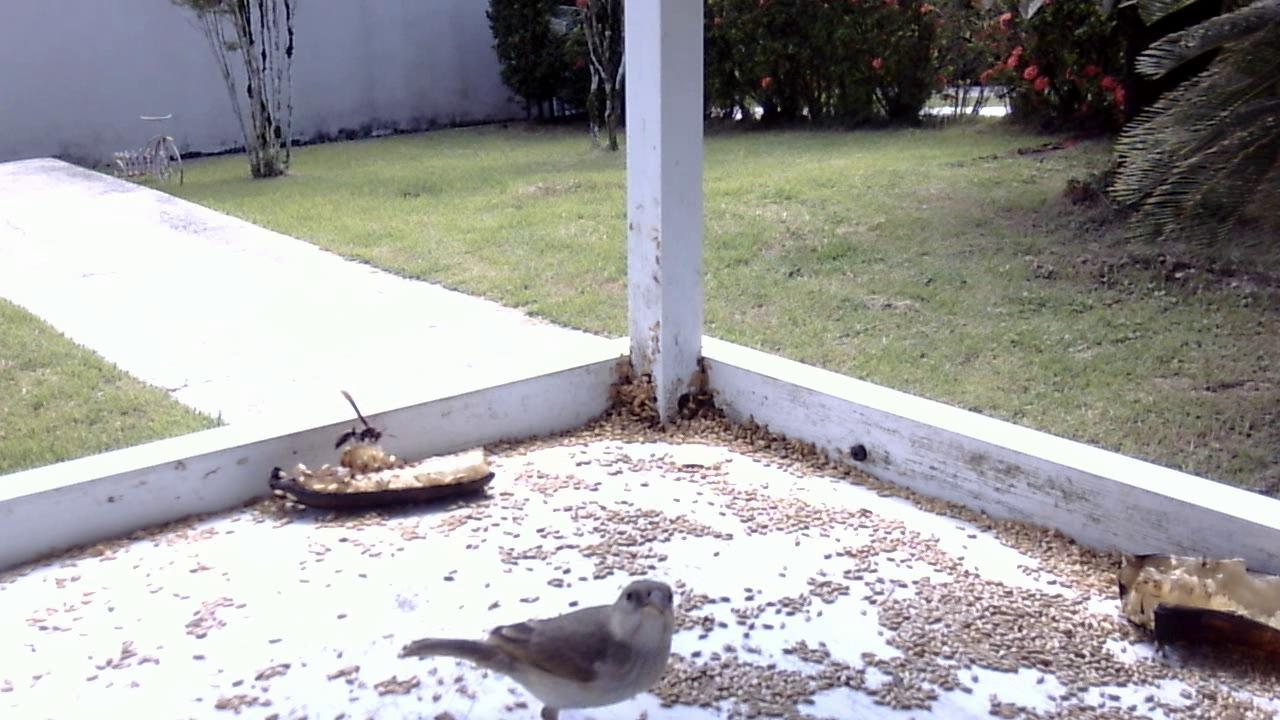canario_do_amazonas: (397, 576, 677, 718)
